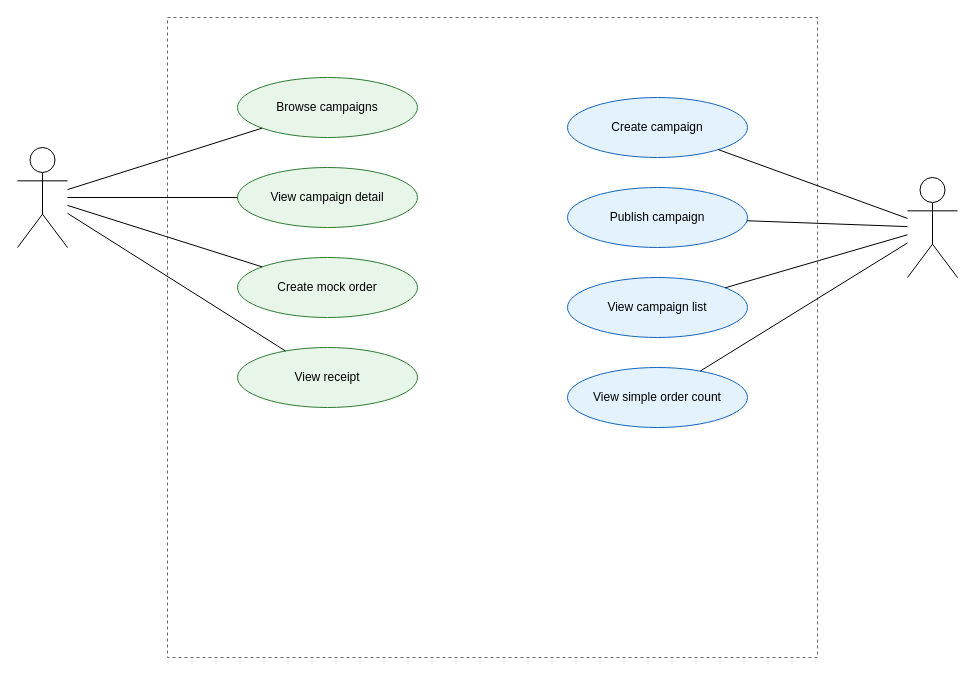
Some shapes in this 975 by 675 pixel diagram are drawn without their labels. Each missing label, with the centre of its shape:
Merchant: the point at 932,227
User: the point at 42,197
